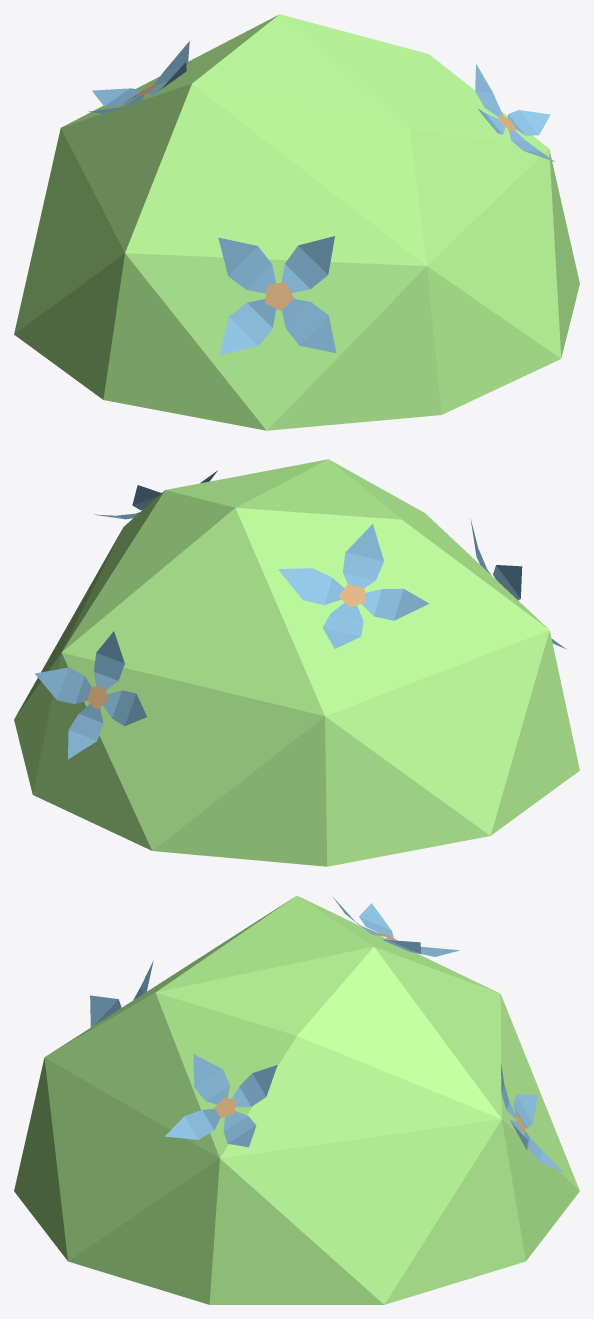
Rendered from FlowerBush_h_m_01.fbx.
3 renders of one model, top to bottom at view 1: azimuth 30°, elevation 25°; view 2: azimuth 150°, elevation 25°; view 3: azimuth 270°, elevation 25°, orthographic. The views are drawn at different scales.
Parts seen in each view (by area): view 1: FlowerBush_h_m_01; view 2: FlowerBush_h_m_01; view 3: FlowerBush_h_m_01.
Part boxes in pixels (box(x1,y1,x2,y2)): FlowerBush_h_m_01: box(14, 14, 579, 430); FlowerBush_h_m_01: box(14, 459, 579, 866); FlowerBush_h_m_01: box(14, 895, 579, 1304).
Bounding box in the file's own units: 117 × 61.25 × 123.
